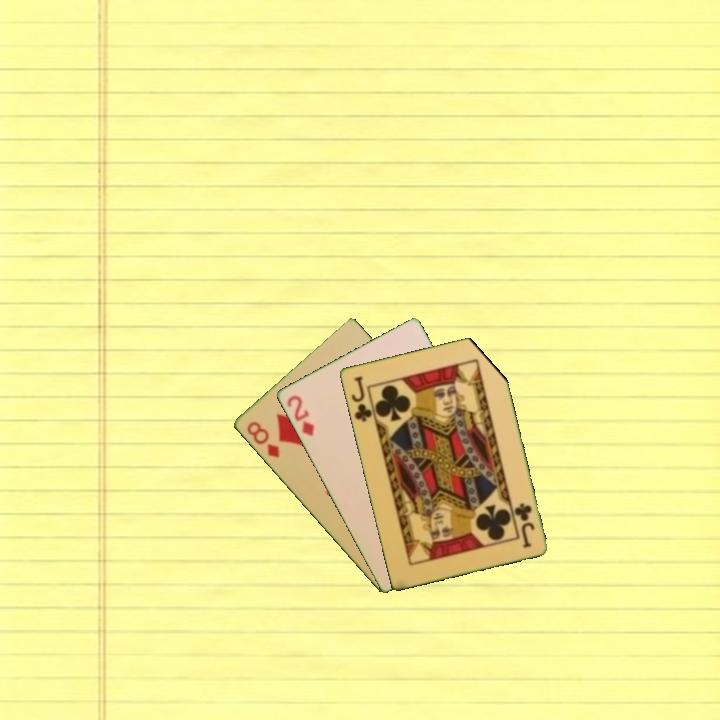2d: (283, 391, 317, 439)
8d: (243, 418, 282, 461)
Jc: (347, 372, 377, 425), (511, 499, 537, 550)
